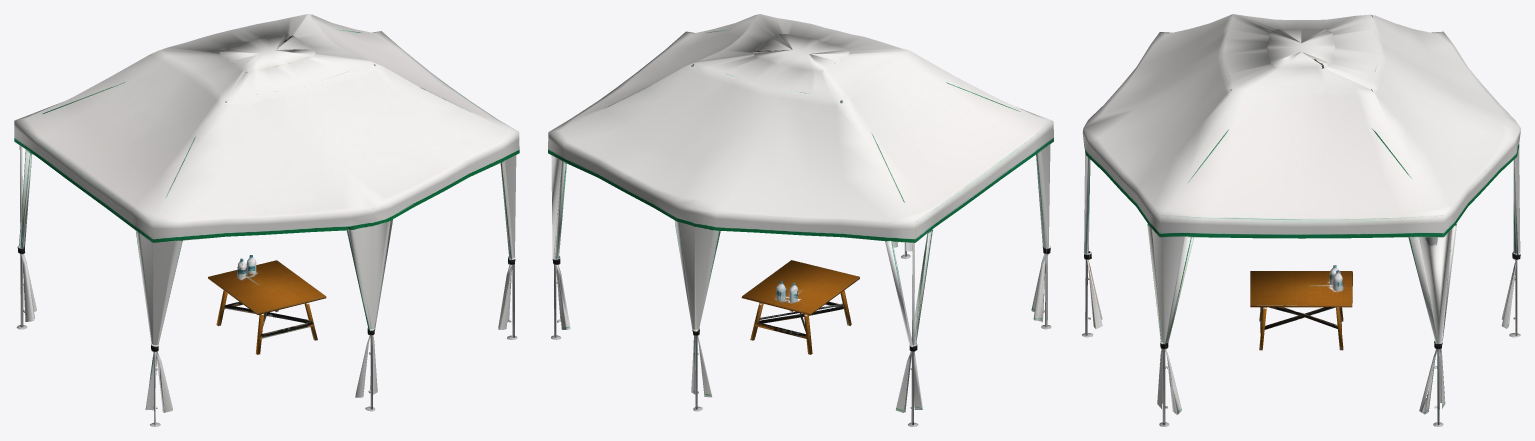
Rendered from feed_tent.glb.
3 renders of one model, left to right at view 1: azimuth 30°, elevation 25°; view 2: azimuth 150°, elevation 25°; view 3: azimuth 270°, elevation 25°, orthographic. The views are drawn at different scales.
Bounding box in the file's own units: 0.9536 × 0.6953 × 0.9575.
1 material, 1 textured.
